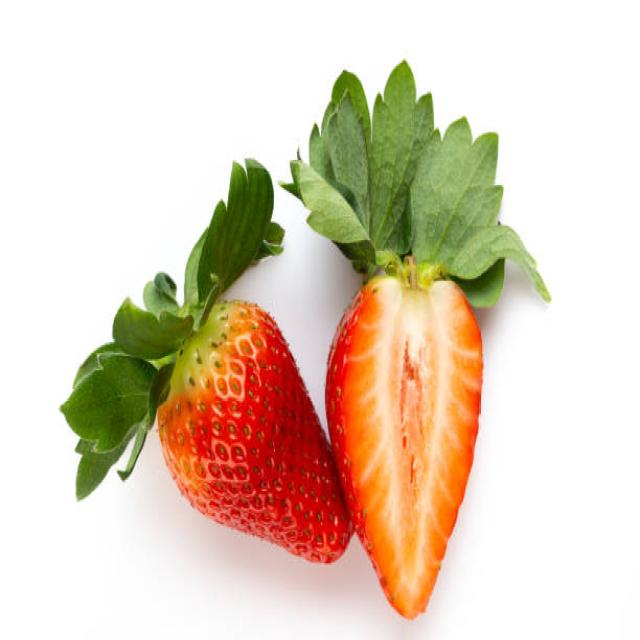Healthy Fruit: (325, 273, 484, 619), (158, 301, 354, 564)
